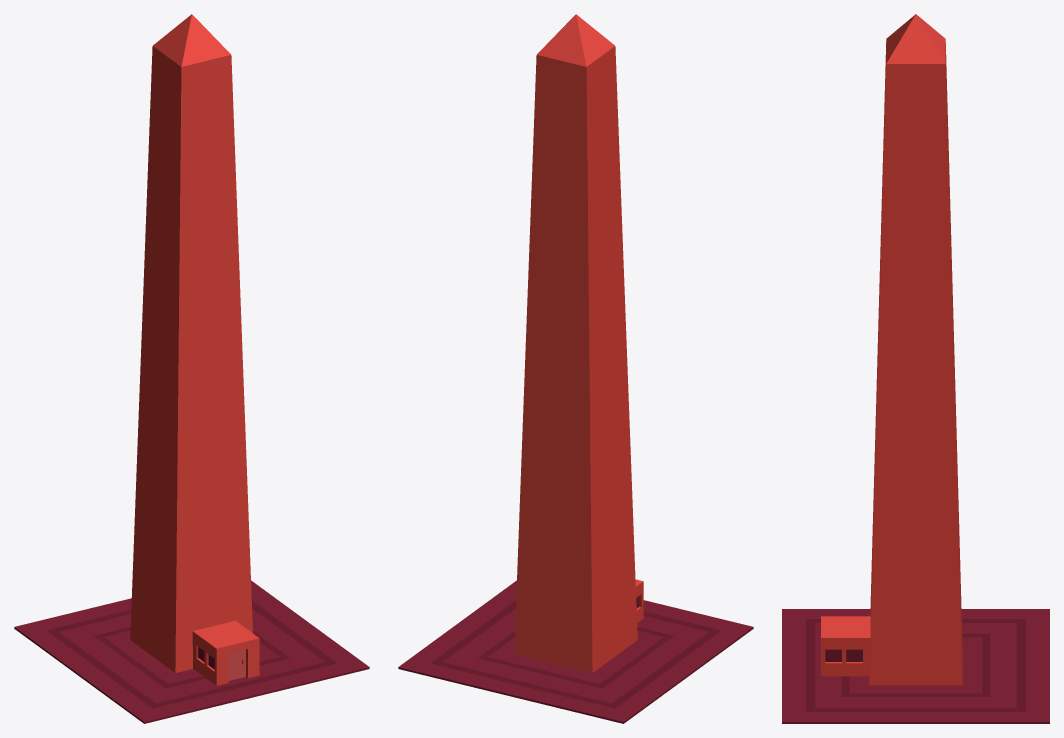
Rendered from WashingtonMonument_Red.fbx.
3 views of the same model, side by side, from view 1: azimuth 30°, elevation 25°; view 2: azimuth 150°, elevation 25°; view 3: azimuth 270°, elevation 25° (orthographic). The views are drawn at different scales.
Visible parts, largest first — view 1: WashingtonMonument_Red; view 2: WashingtonMonument_Red; view 3: WashingtonMonument_Red.
Boxes of the visible parts, x1,y1,x2,y2 form: WashingtonMonument_Red: [14, 14, 369, 723]; WashingtonMonument_Red: [398, 14, 753, 723]; WashingtonMonument_Red: [782, 14, 1049, 723].
Size of the model in its own units: 24.14 by 64.99 by 24.14.
